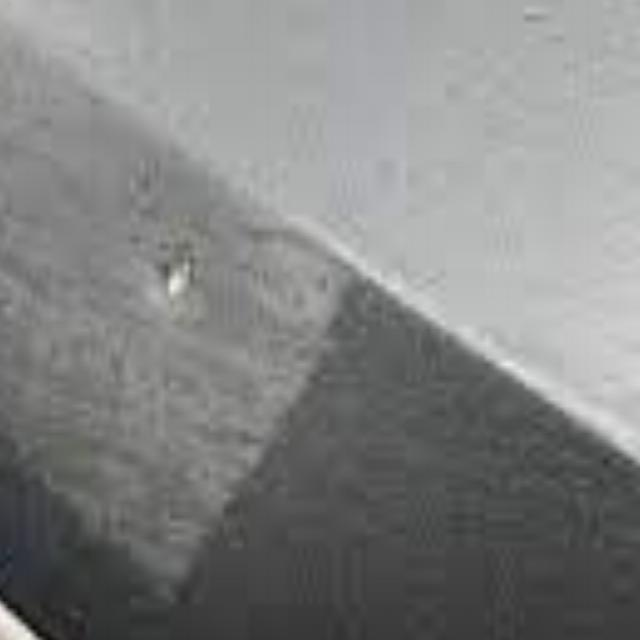dents: (153, 228, 220, 355)
